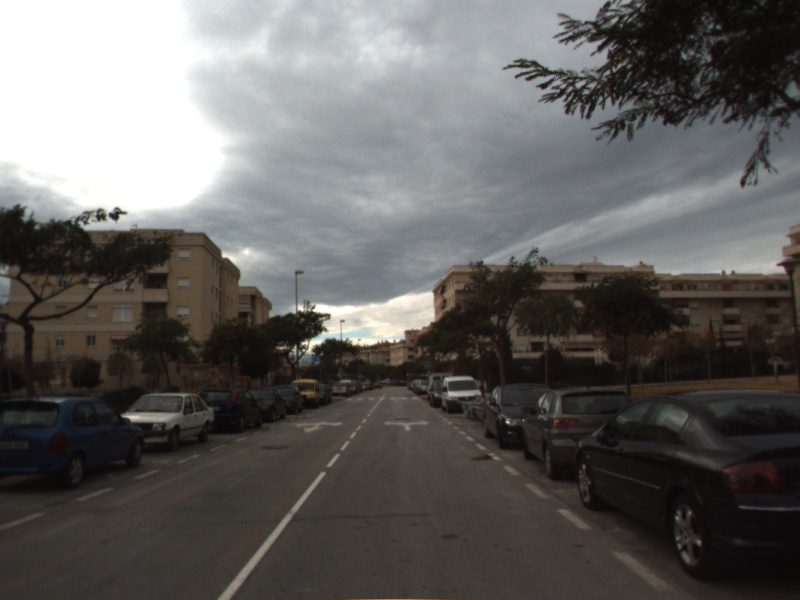LEFT_RIGHT: (380, 417, 432, 433)
